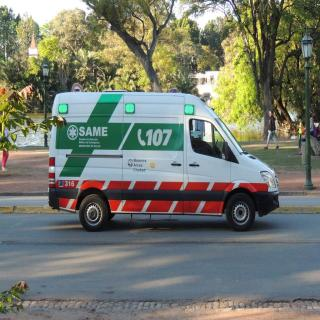Ambulance: (41, 52, 286, 262)
